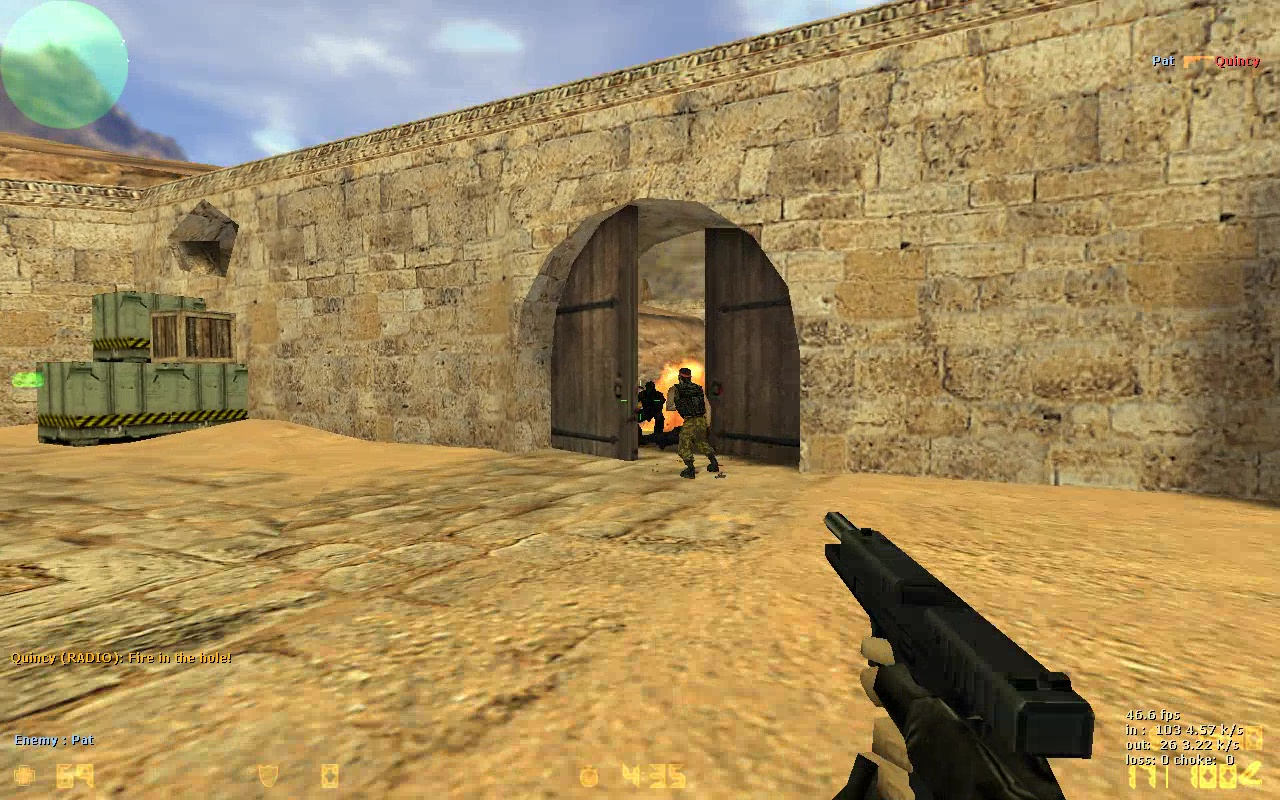ct: (638, 381, 664, 446)
terr1: (665, 368, 725, 478)
